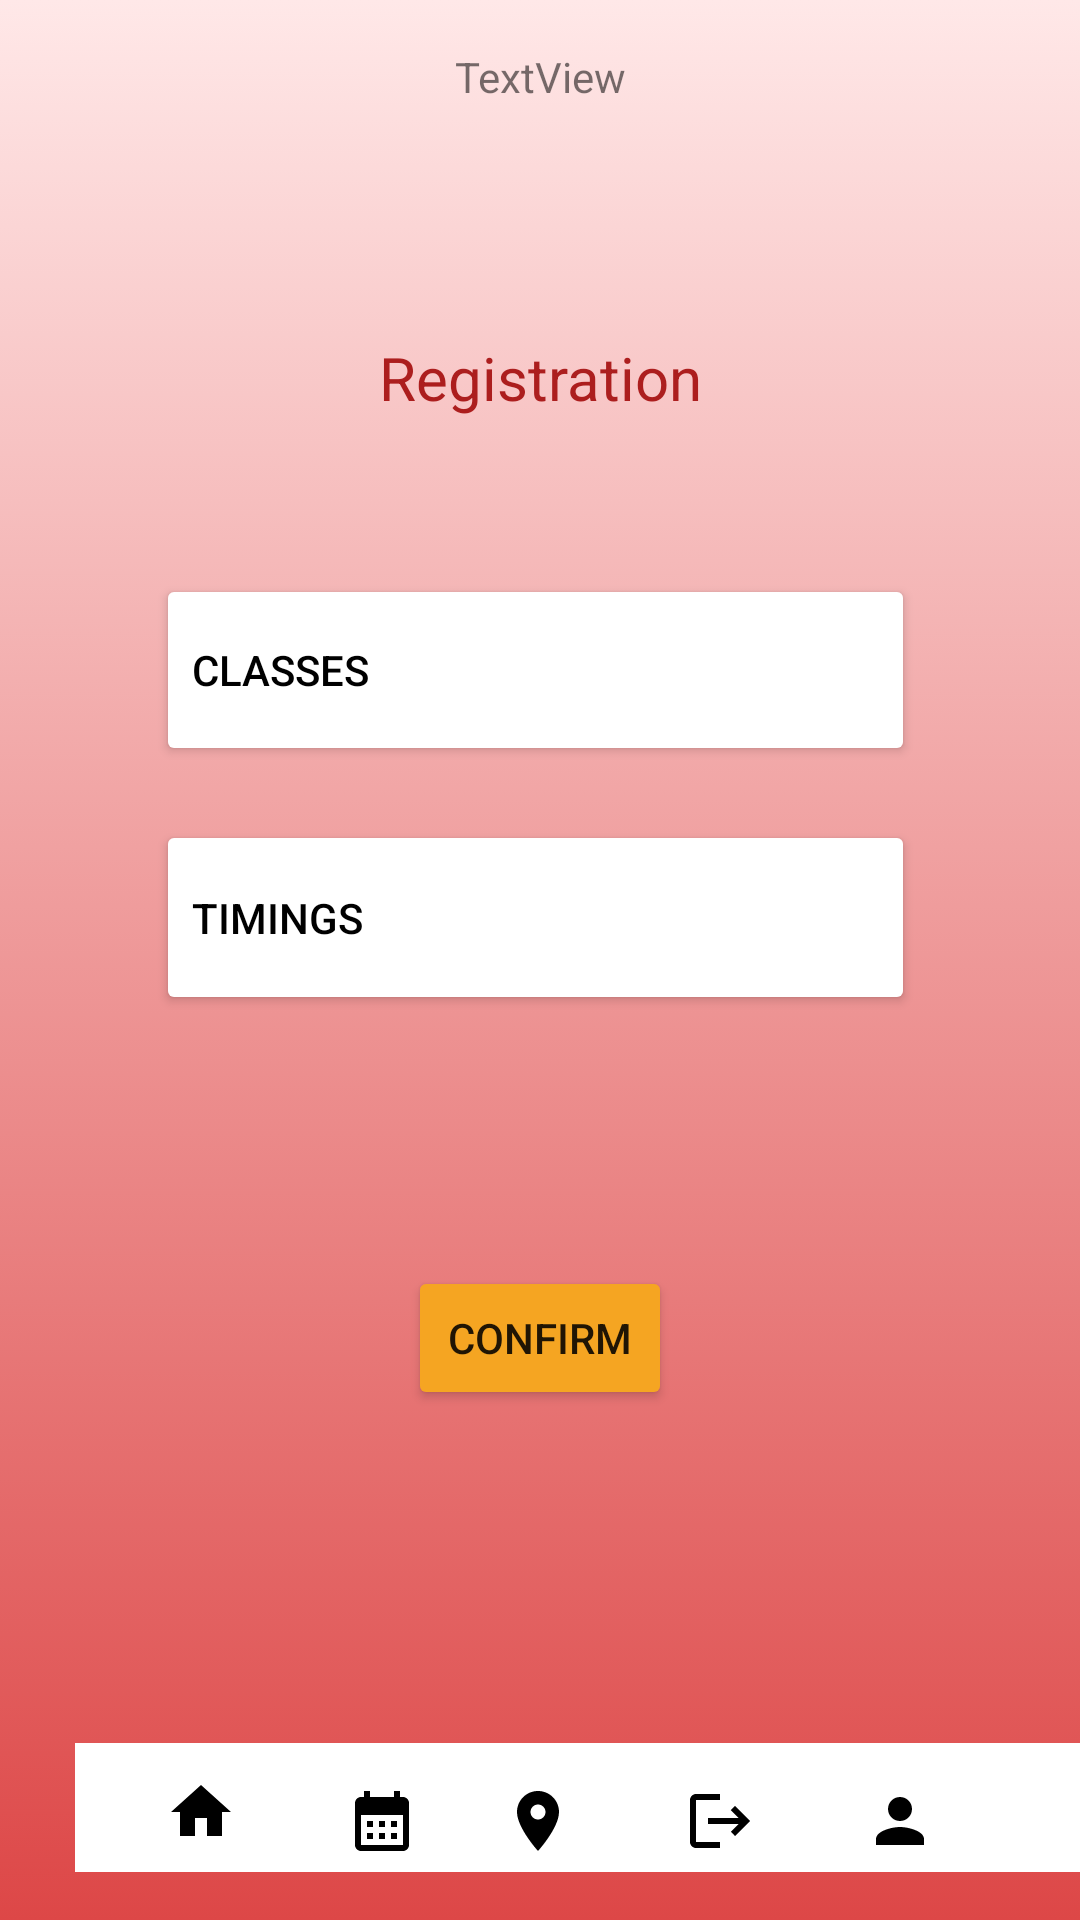

Where to tap for icons on this 1080x1920 app screen, as (x=x, y=y):
calendar month: (x=382, y=1821)
home: (x=201, y=1810)
location on: (x=538, y=1821)
person: (x=900, y=1821)
